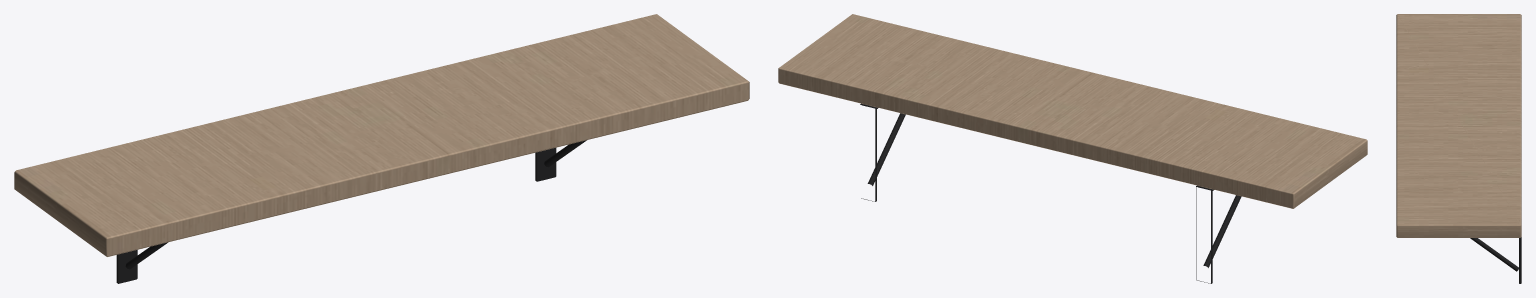
Rendered from wall_shelf.glb.
The picture shows the model from 3 angles, left to right: view 1: azimuth 30°, elevation 25°; view 2: azimuth 150°, elevation 25°; view 3: azimuth 270°, elevation 25°; orthographic projection. The views are drawn at different scales.
Parts seen in each view (by area): view 1: wall_shelf_hard, wall_shelf_smooth; view 2: wall_shelf_hard, wall_shelf_smooth; view 3: wall_shelf_hard, wall_shelf_smooth.
Part boxes in pixels (box(x1,y1,x2,y2)): wall_shelf_hard: box(14, 14, 749, 283); wall_shelf_smooth: box(125, 140, 586, 269); wall_shelf_hard: box(778, 14, 1367, 283); wall_shelf_smooth: box(867, 113, 1241, 267); wall_shelf_hard: box(1396, 14, 1521, 283); wall_shelf_smooth: box(1470, 238, 1518, 271).
Size of the model in its own units: 0.8 by 0.164 by 0.2.
Materials: 2 (1 with a texture image).
